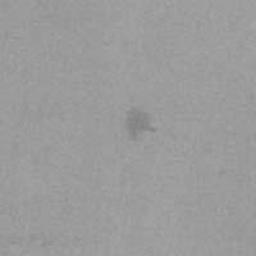Oil spot: (124, 104, 165, 148)
